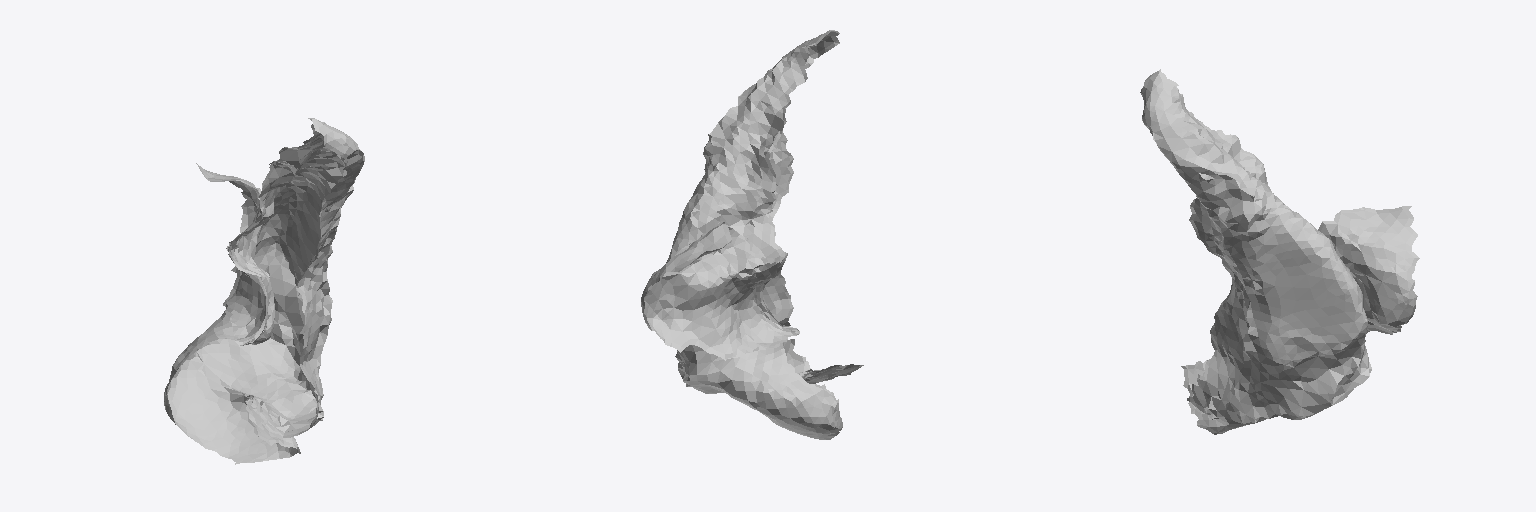
Rendered from R_cuneus.obj.
The picture shows the model from 3 angles: view 1: azimuth 30°, elevation 25°; view 2: azimuth 150°, elevation 25°; view 3: azimuth 270°, elevation 25°; orthographic projection.
Visible parts, largest first — view 1: R_cuneus_L_cuneus; view 2: R_cuneus_L_cuneus; view 3: R_cuneus_L_cuneus.
Part boxes in pixels (x1,y1,x2,y2): R_cuneus_L_cuneus: (164,118,364,464); R_cuneus_L_cuneus: (641,30,863,439); R_cuneus_L_cuneus: (1140,69,1419,434).
Bounding box in the file's own units: 72.58 × 159 × 110.